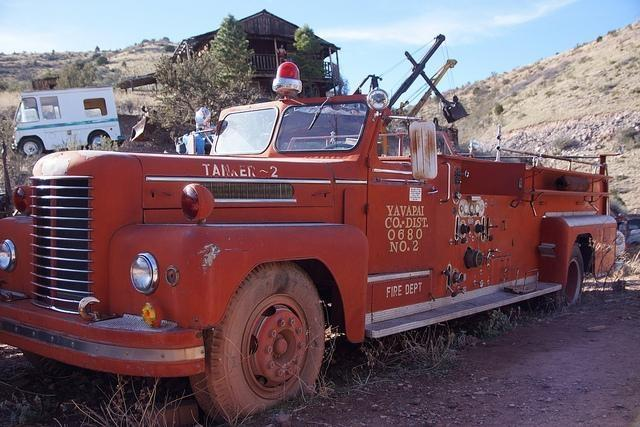truck: (0, 59, 626, 424), (15, 85, 126, 154)
